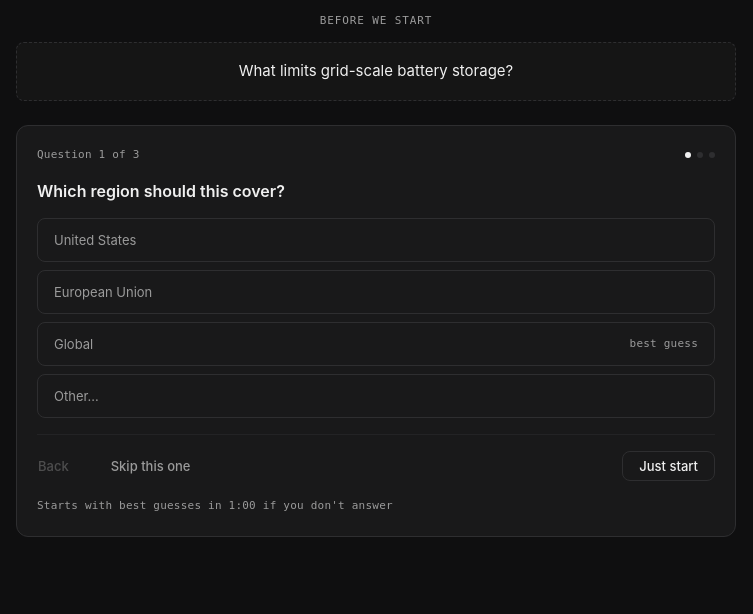
Scenario: ClarifyStage — the card › opens Other… on a text field; Next waits for text; Enter moves on
Click the button "Other…": (76, 396) [37,374,715,418]
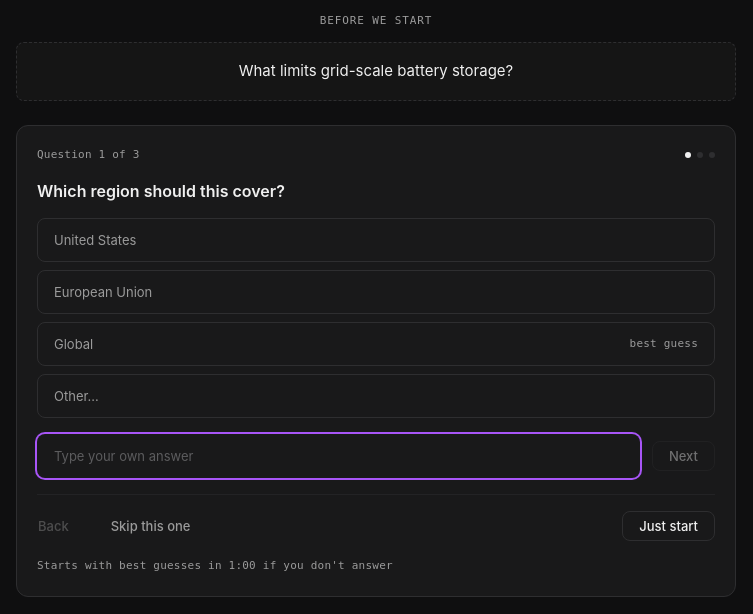
In the field labelled "your own answer": (338, 456) [37,434,640,478], type "  Canada "
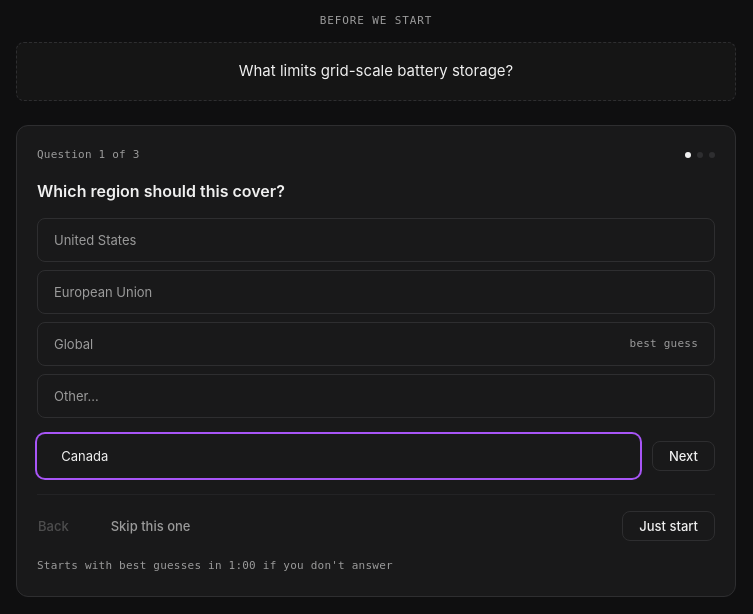
Press Enter in the field named "your own answer", box [37,434,640,478]
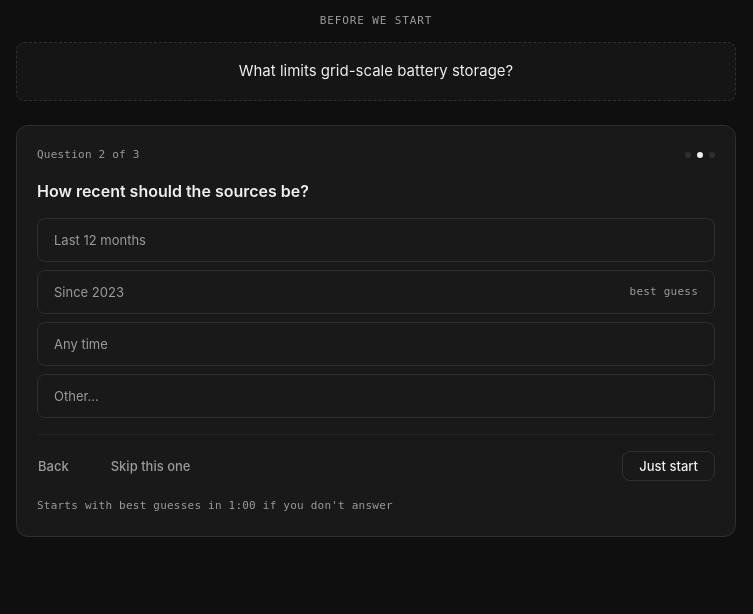
Result: the text with id "clarifyStep" reads "Question 2 of 3" at [37,146,140,164]
